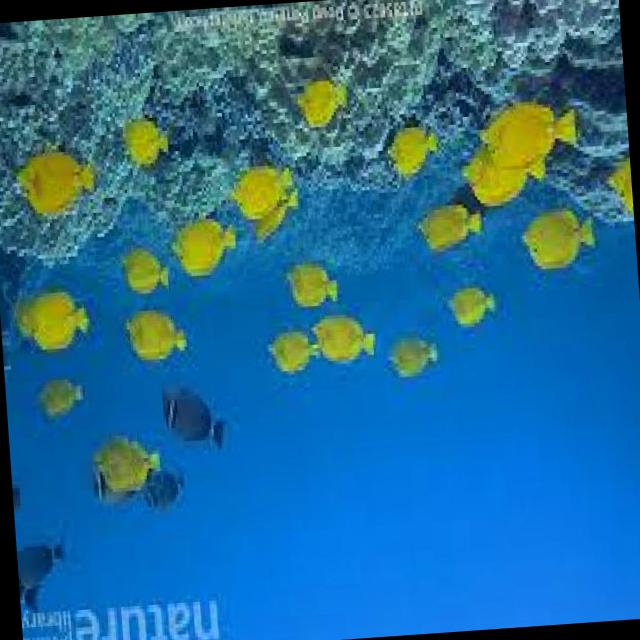YellowTang: (474, 96, 582, 170), (219, 162, 308, 240), (158, 200, 236, 287), (17, 144, 92, 222), (518, 206, 598, 272), (17, 284, 92, 354), (314, 292, 378, 371), (116, 303, 189, 370), (449, 152, 542, 204), (92, 426, 162, 495), (374, 112, 441, 180), (380, 312, 438, 387), (406, 197, 482, 254), (436, 272, 501, 338), (113, 237, 176, 303), (110, 111, 170, 178), (290, 74, 354, 134), (276, 319, 314, 390), (607, 147, 634, 226), (36, 374, 78, 412)
